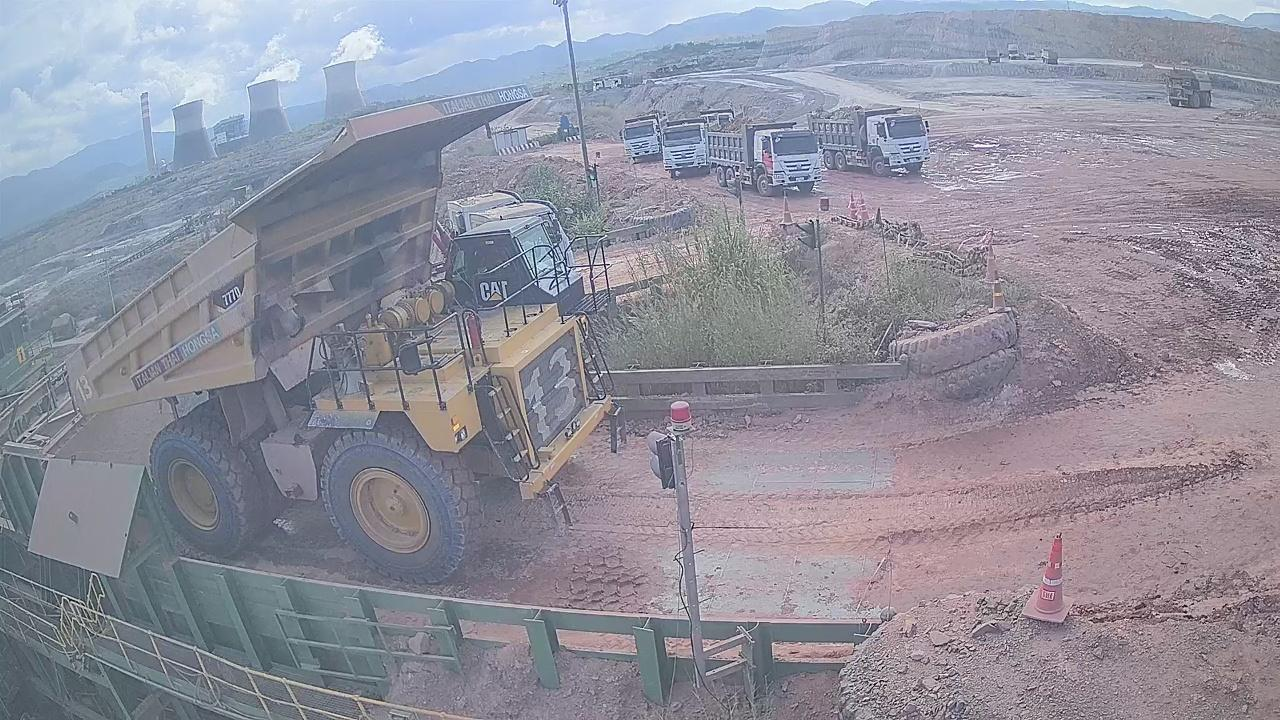company: (119, 323, 234, 391)
dumping_soil: (61, 77, 638, 589)
front_number: (518, 323, 593, 452)
tail_number: (70, 373, 96, 408)
truck_size: (206, 276, 254, 311)
